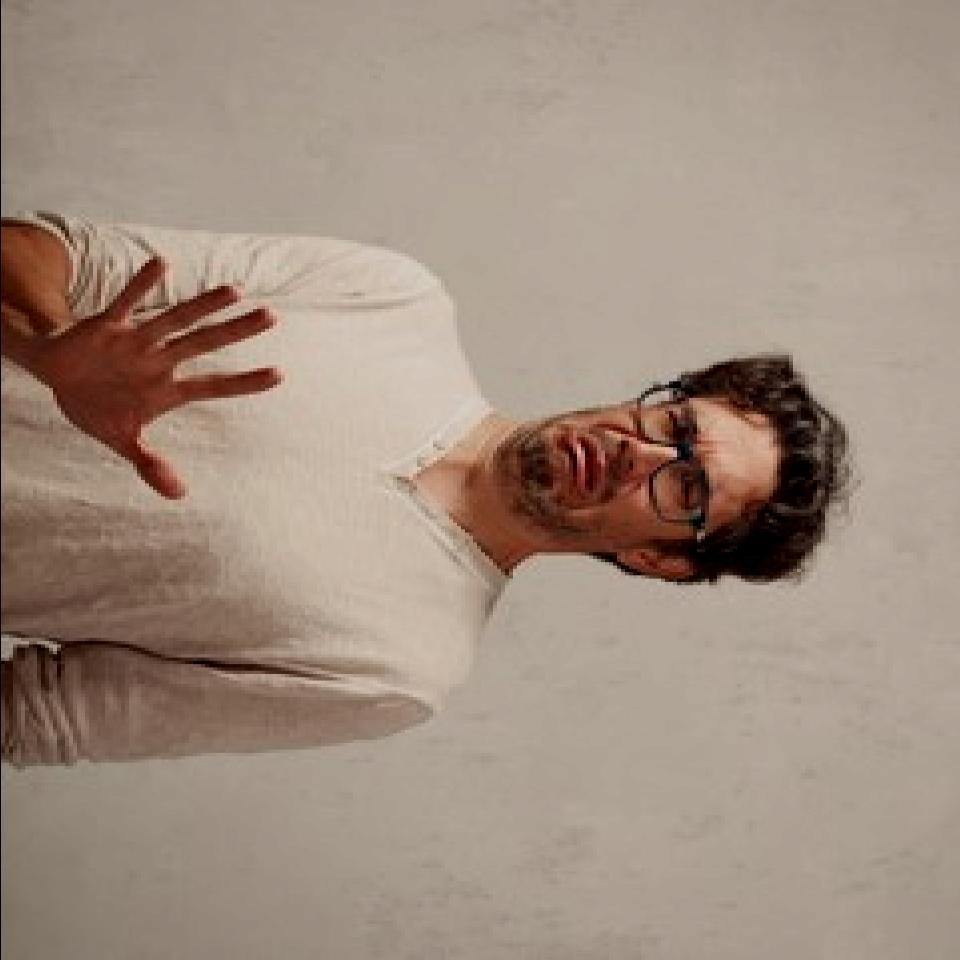Disgust: (502, 398, 776, 550)
